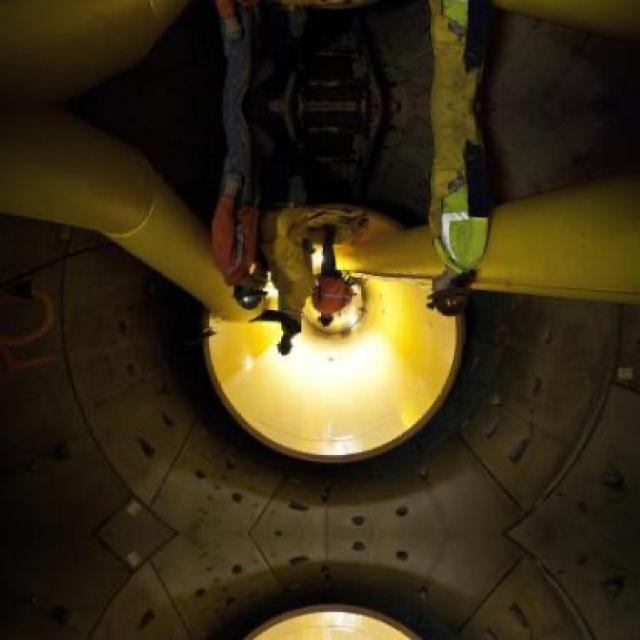sin casco: (257, 306, 340, 368)
